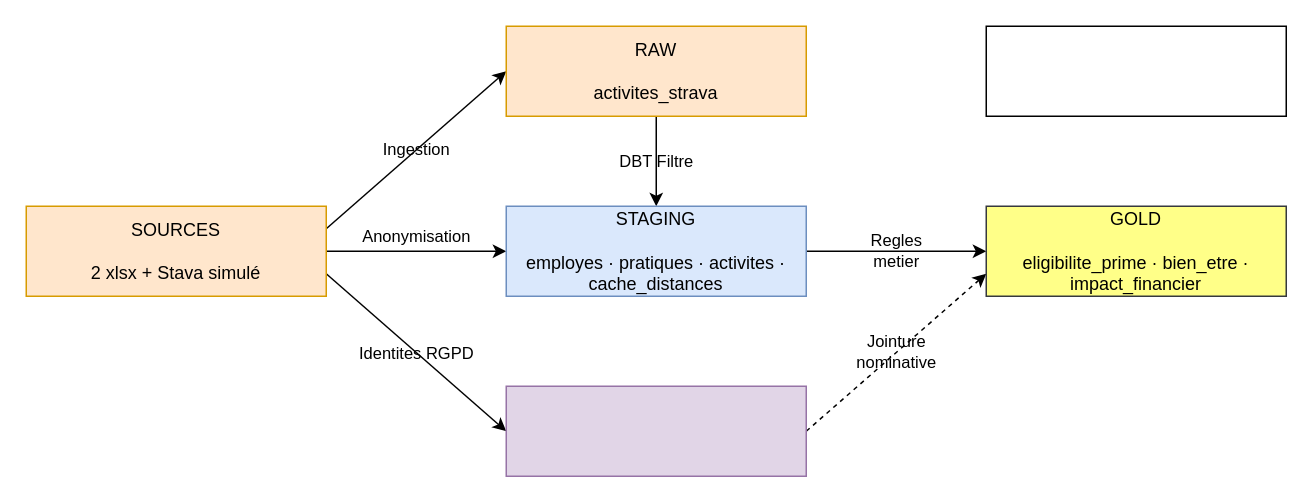
Some shapes in this 1313 by 503 pixel diagram are drawn without their labels. The centre of each missing label's shape, as x and y in pixels:
META pipeline_state · pipeline_runs: (x=1135, y=70)
rh_privé identites · vue_primes_nominatives: (x=655, y=430)
